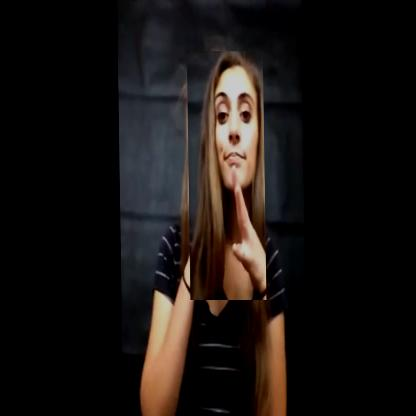Talk: (187, 51, 265, 300)
